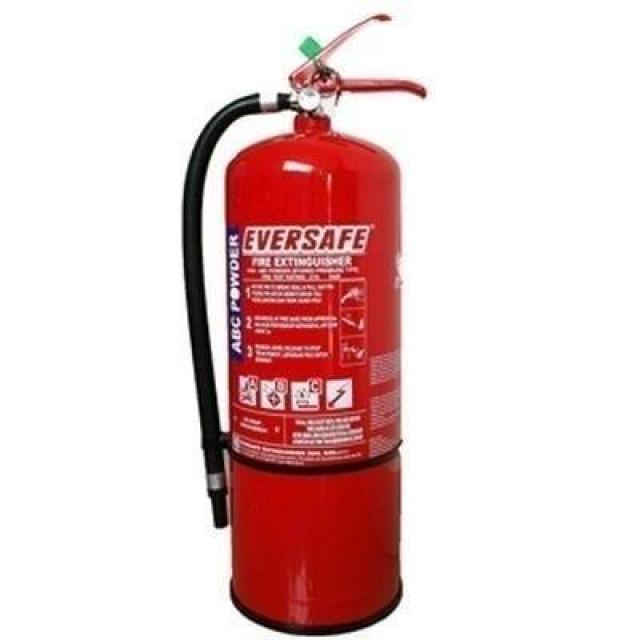fire_extinguisher: (172, 9, 430, 638)
